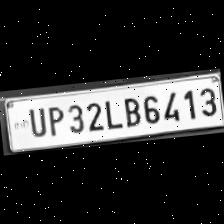1: (178, 86, 197, 122)
2: (84, 99, 105, 134)
3: (196, 84, 218, 119), (64, 100, 85, 136)
4: (158, 88, 181, 124)
6: (140, 91, 160, 125)
B: (120, 93, 142, 127)
L: (101, 96, 121, 130)
P: (44, 102, 66, 138)
U: (23, 104, 48, 138)
